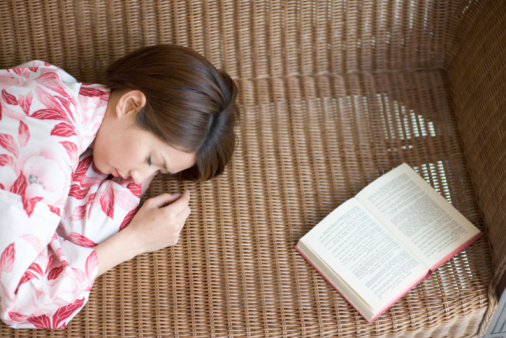deitado: (0, 45, 218, 338)
